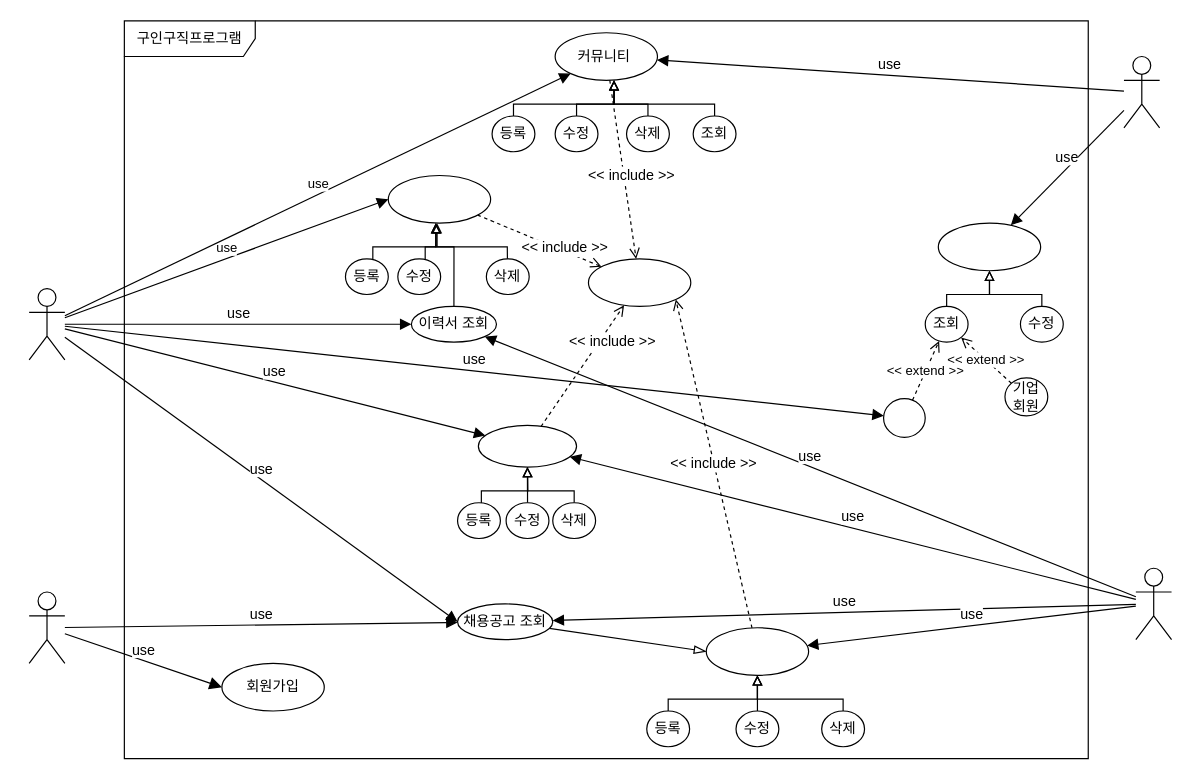
This 1200x779 diagram has some shape labels left out. The box of each missing label's shape, as (x1, y1, x2, y2) in pixels:
개인 회원: (882, 397, 925, 437)
개인회원: (28, 287, 65, 360)
관리자: (1123, 55, 1160, 128)
기업회원: (1135, 567, 1172, 640)
나의 정보: (477, 424, 577, 467)
로그인: (587, 258, 691, 306)
비회원: (28, 591, 65, 663)
이력서 편집: (387, 174, 491, 223)
채용공고 편집: (705, 627, 809, 675)
회원정보: (937, 222, 1041, 271)
